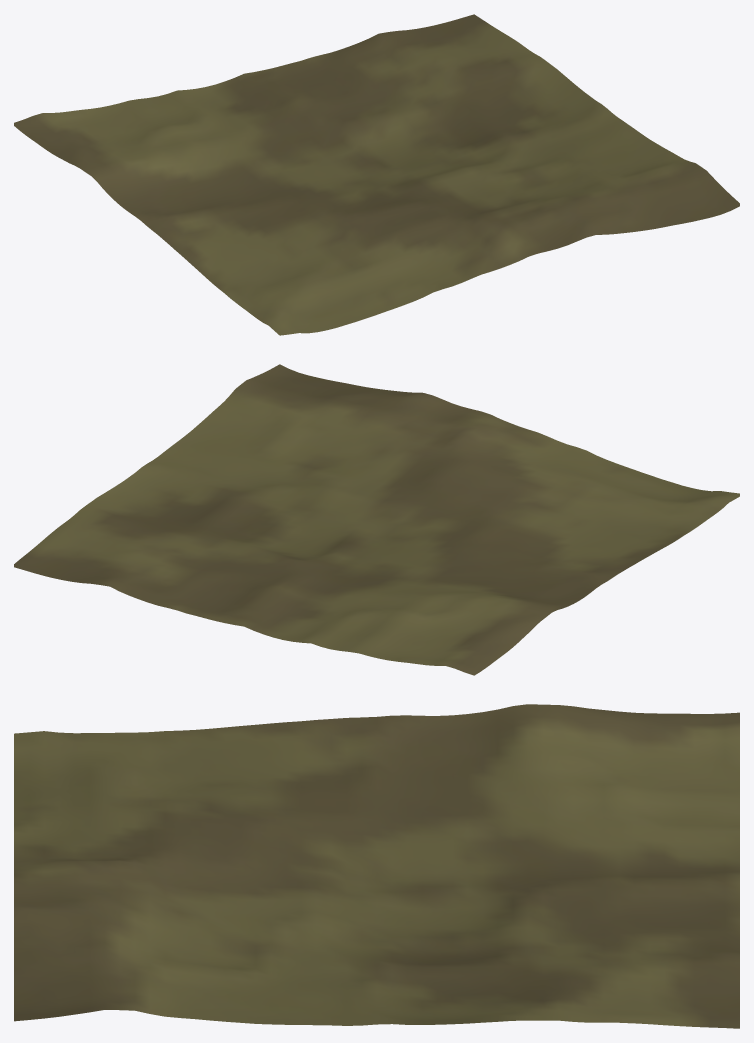
File: land_m_14_06.glb
3 renders of one model, top to bottom at view 1: azimuth 30°, elevation 25°; view 2: azimuth 150°, elevation 25°; view 3: azimuth 270°, elevation 25°, orthographic. The views are drawn at different scales.
Visible parts, largest first — view 1: land_m_14_06; view 2: land_m_14_06; view 3: land_m_14_06.
Part boxes in pixels (left/top/right/bottom): land_m_14_06: left=14, top=14, right=739, bottom=335; land_m_14_06: left=14, top=364, right=739, bottom=675; land_m_14_06: left=14, top=704, right=739, bottom=1028.
Bounding box in the file's own units: 960 × 68.91 × 960.
